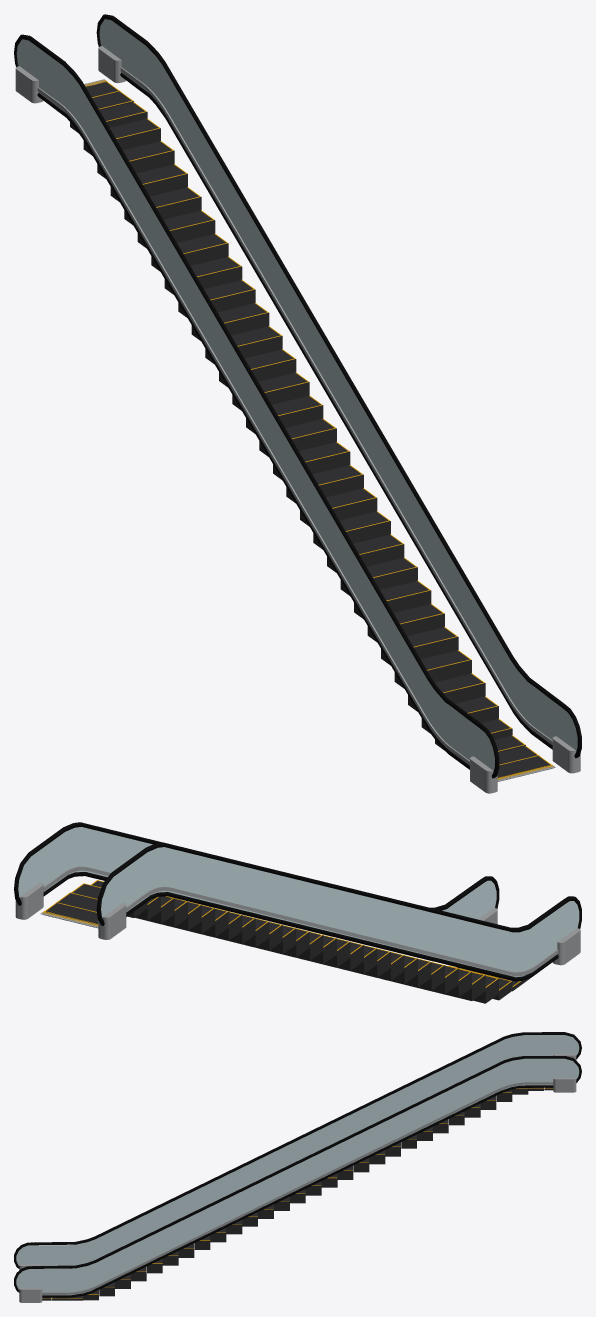
File: gteki_ik_escalator_w1093_rise5838_a2840.glb
3 renders of one model, top to bottom at view 1: azimuth 30°, elevation 25°; view 2: azimuth 150°, elevation 25°; view 3: azimuth 270°, elevation 25°, orthographic. The views are drawn at different scales.
Parts seen in each view (by area): view 1: VIS_body; view 2: VIS_body; view 3: VIS_body.
Part boxes in pixels (x1,y1,x2,y2): VIS_body: (14,14,581,793); VIS_body: (14,822,581,1003); VIS_body: (14,1032,581,1302).
Bounding box in the file's own units: 1.61 × 6.86 × 14.29.
Materials: 2 (2 with a texture image).
